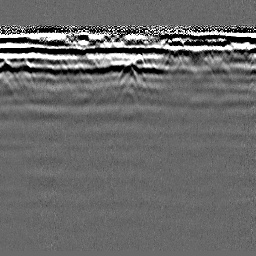cavity: (115, 59, 140, 83)
